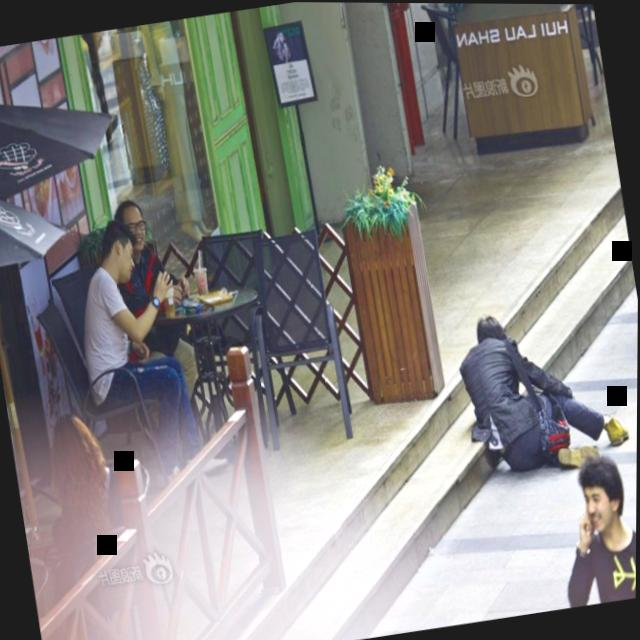Fall-Detected: (446, 280, 638, 485)
